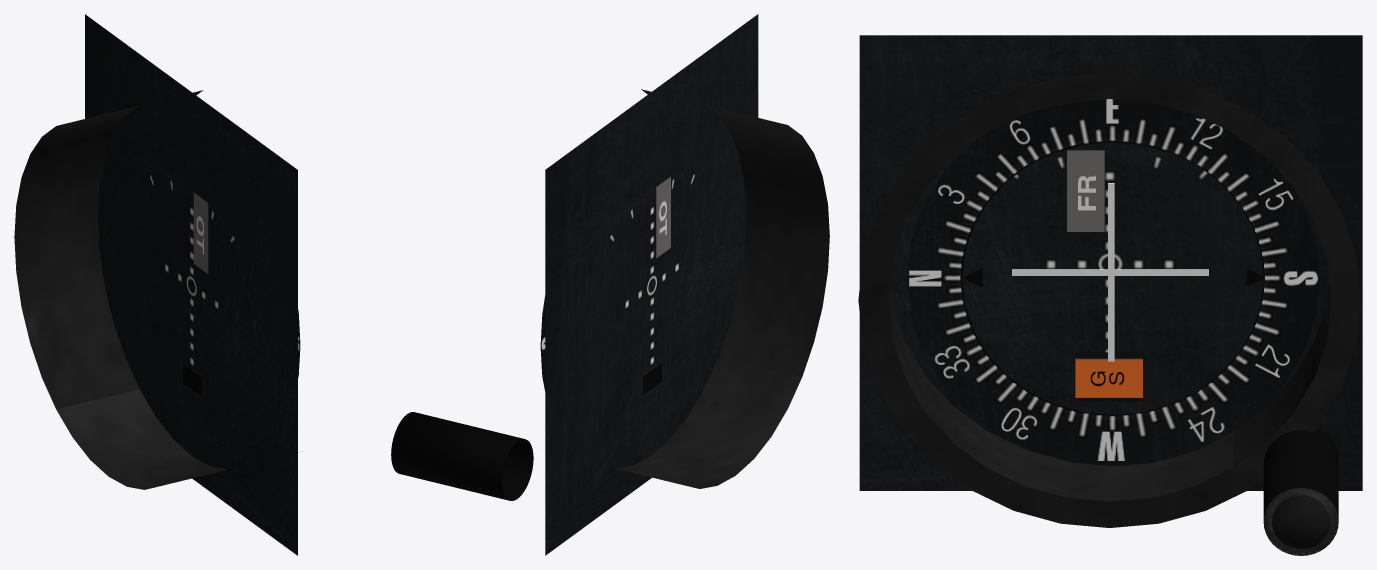
Rendered from vor1.gltf.
3 renders of one model, left to right at view 1: azimuth 30°, elevation 25°; view 2: azimuth 150°, elevation 25°; view 3: azimuth 270°, elevation 25°, orthographic. The views are drawn at different scales.
Parts seen in each view (by area): view 1: Face, Case, TO; view 2: Face, Case, disk, TO; view 3: Face, Ring, Case, disk, FR, GS_out_of_range, LocalizerNeedle, GlideslopeNeedle, GS_in_range.
Part boxes in pixels (bbox=[...]): Face: bbox=[85, 14, 297, 555]; Case: bbox=[14, 90, 228, 489]; TO: bbox=[193, 192, 208, 273]; Face: bbox=[545, 14, 758, 555]; Case: bbox=[616, 89, 829, 488]; disk: bbox=[391, 412, 533, 500]; TO: bbox=[656, 176, 670, 258]; Face: bbox=[859, 35, 1362, 490]; Ring: bbox=[906, 99, 1320, 466]; Case: bbox=[858, 72, 1360, 527]; disk: bbox=[1263, 428, 1338, 555]; FR: bbox=[1067, 150, 1104, 231]; GS_out_of_range: bbox=[1075, 358, 1142, 397]; LocalizerNeedle: bbox=[1012, 269, 1208, 275]; GlideslopeNeedle: bbox=[1108, 183, 1114, 361]; GS_in_range: bbox=[1076, 352, 1144, 401].
Bounding box in the file's own units: 0.0537 × 0.0801 × 0.0802.
3 materials, 3 textured.
